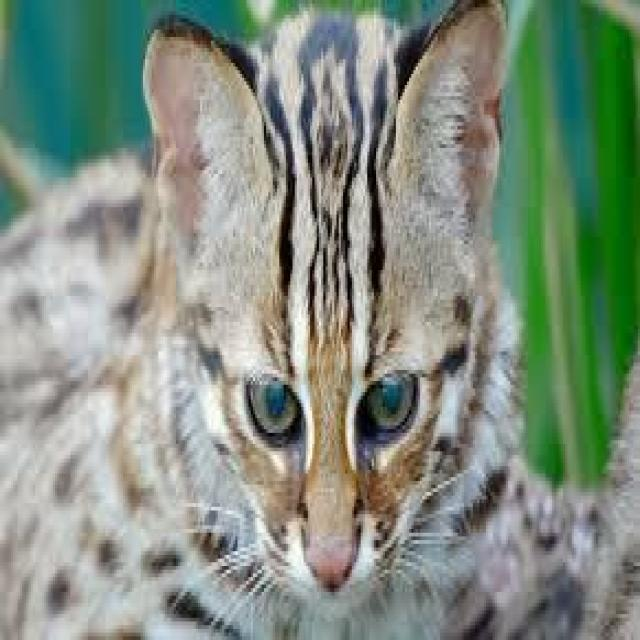leopard: (122, 21, 532, 604)
